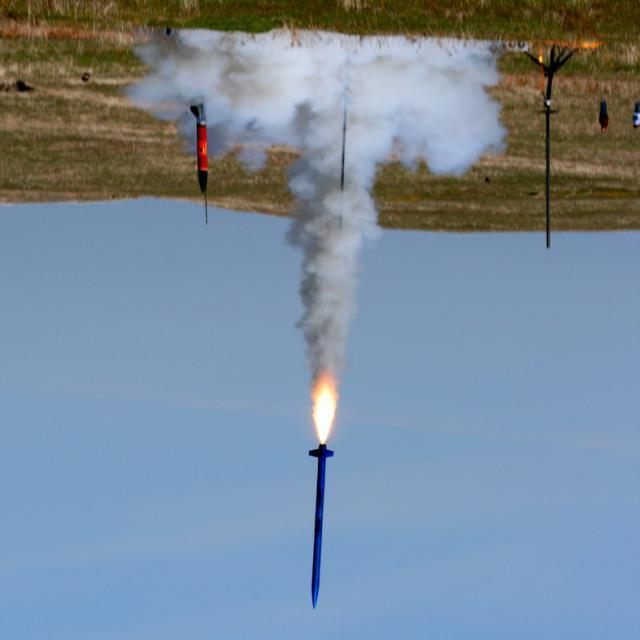missile: (304, 440, 336, 614), (186, 98, 212, 198)
